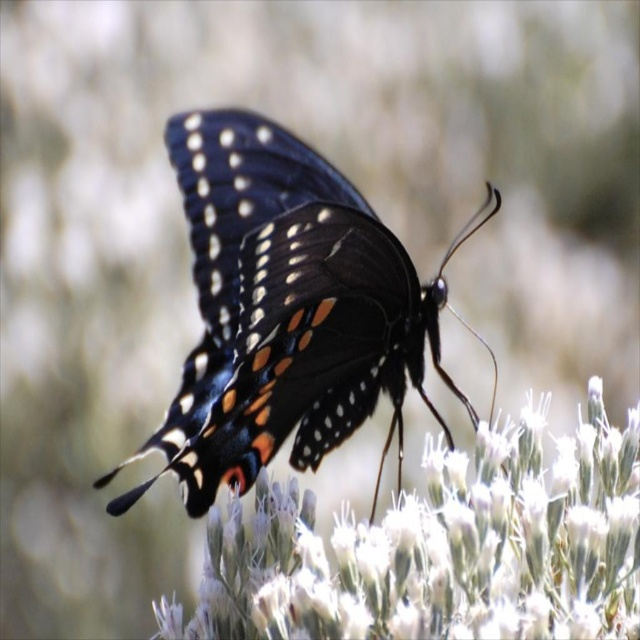Butterfly: (92, 96, 524, 557)
